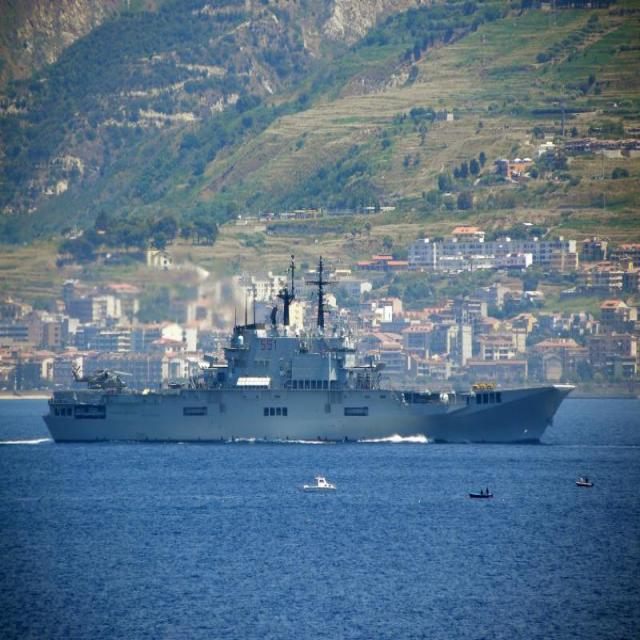Portanaves: (38, 254, 580, 448)
